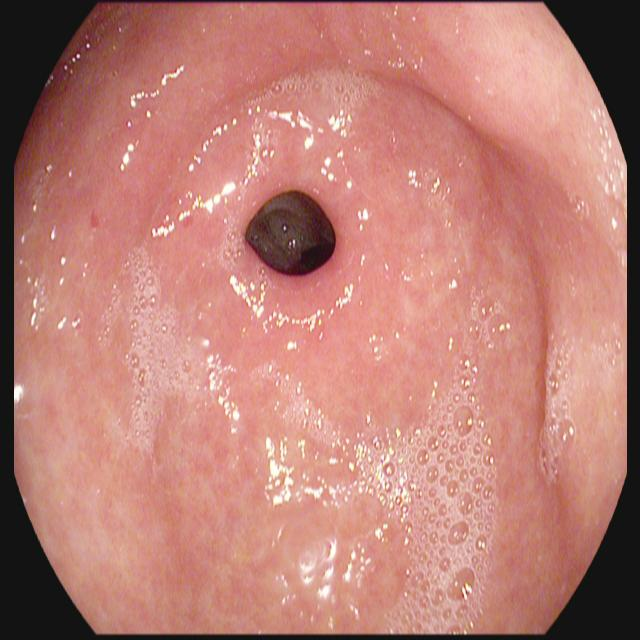normal-pylorus: (4, 3, 413, 355)
